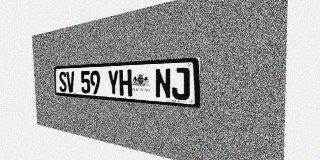5: (81, 71, 91, 94)
9: (90, 70, 101, 94)
H: (119, 69, 132, 96)
J: (172, 67, 190, 100)
N: (155, 68, 171, 99)
S: (59, 71, 67, 92)
V: (66, 71, 75, 93)
Y: (107, 70, 119, 96)
